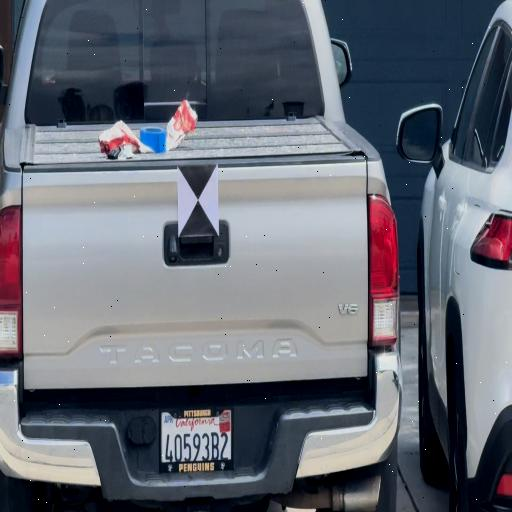target: (178, 167, 219, 235)
